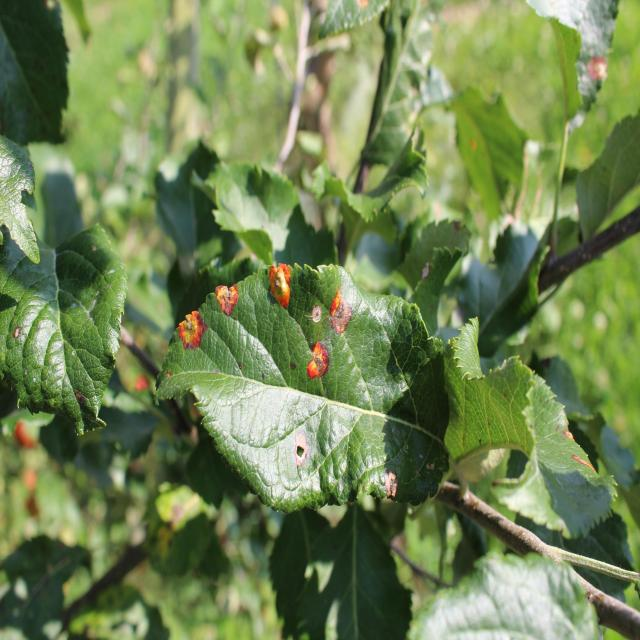Rust: (162, 296, 215, 362), (206, 258, 256, 326), (258, 245, 296, 326), (301, 338, 340, 391), (323, 282, 357, 338)
